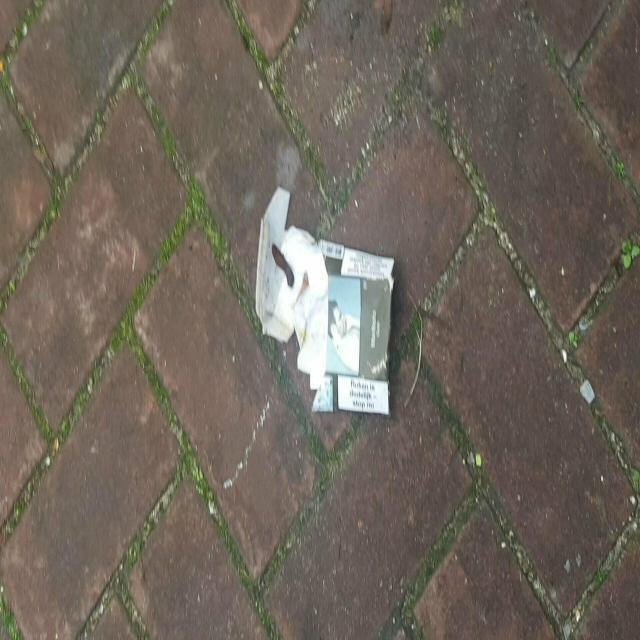Paper: (253, 182, 398, 422)
